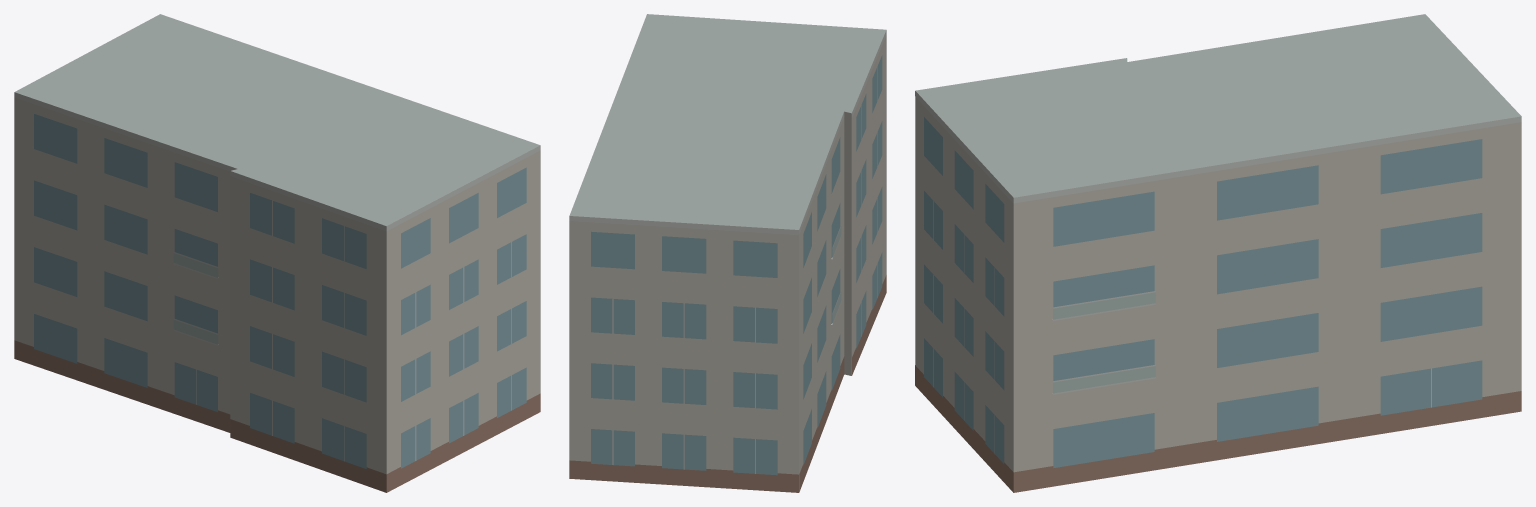
Rendered from survey-upis-32770469.glb.
3 views of the same model, side by side, from view 1: azimuth 30°, elevation 25°; view 2: azimuth 150°, elevation 25°; view 3: azimuth 270°, elevation 25° (orthographic). The views are drawn at different scales.
Visible parts, largest first — view 1: survey-upis-32770469.tmp; view 2: survey-upis-32770469.tmp; view 3: survey-upis-32770469.tmp.
Part boxes in pixels (bbox=[...]): survey-upis-32770469.tmp: bbox=[14, 14, 540, 492]; survey-upis-32770469.tmp: bbox=[569, 14, 886, 492]; survey-upis-32770469.tmp: bbox=[915, 14, 1521, 492].
Size of the model in its own units: 16.97 by 12.7 by 23.66.
